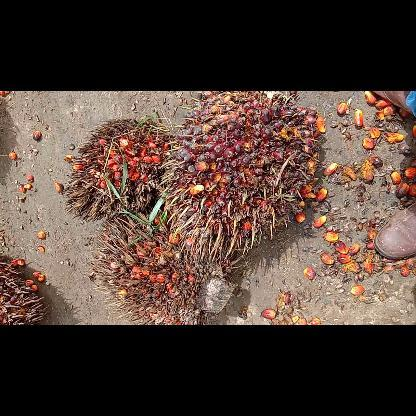TBS masak: (159, 92, 320, 280)
Terlalu masak: (86, 216, 238, 324), (61, 116, 175, 220)
